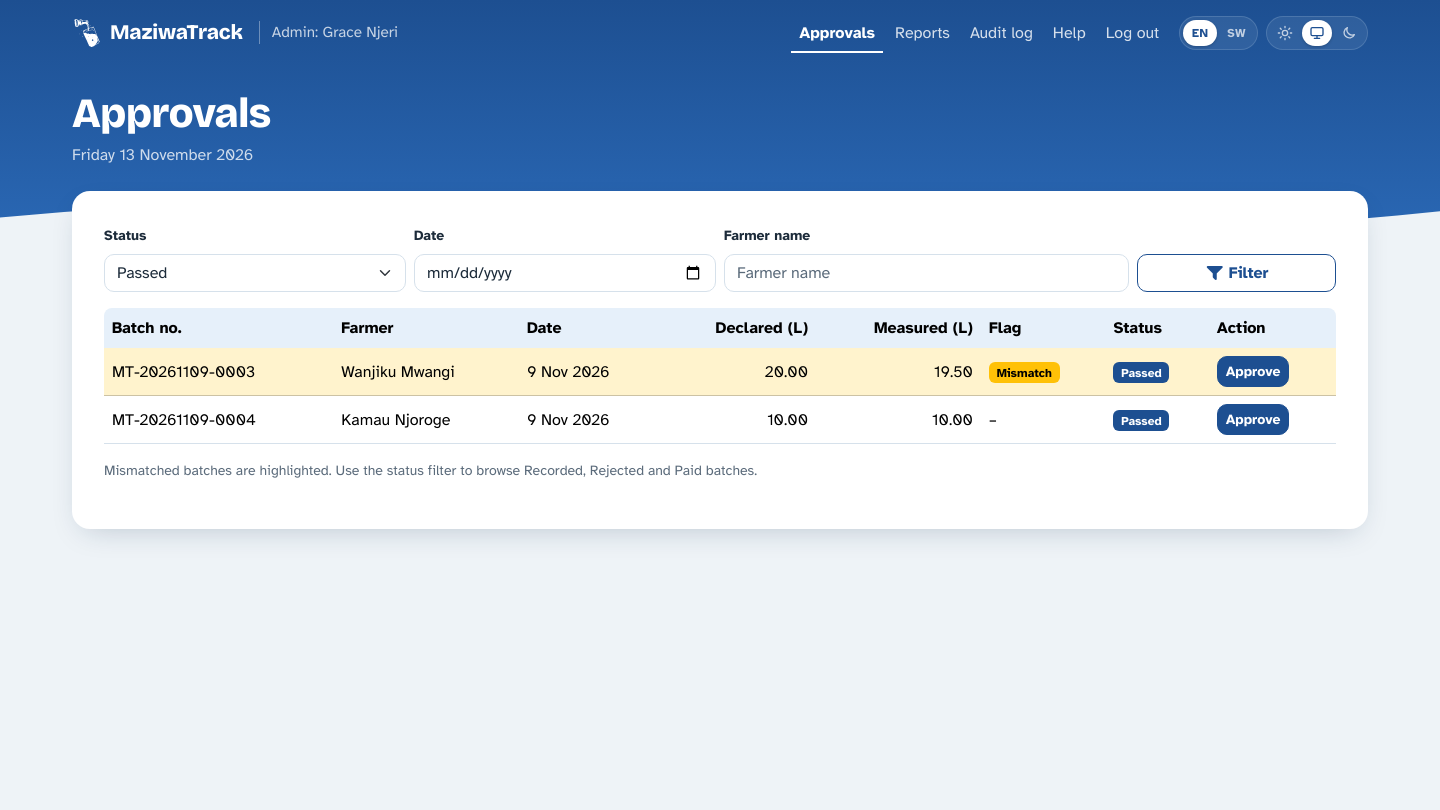
Test: Approvals › P2: the pop-up shows the amount (measured litres × price) before approving
This screenshot has width=1440, height=810.
Click the button "Approve" in the row of "MT-20261109-0003".
click(1253, 372)  # box 1217,356 -> 1289,387
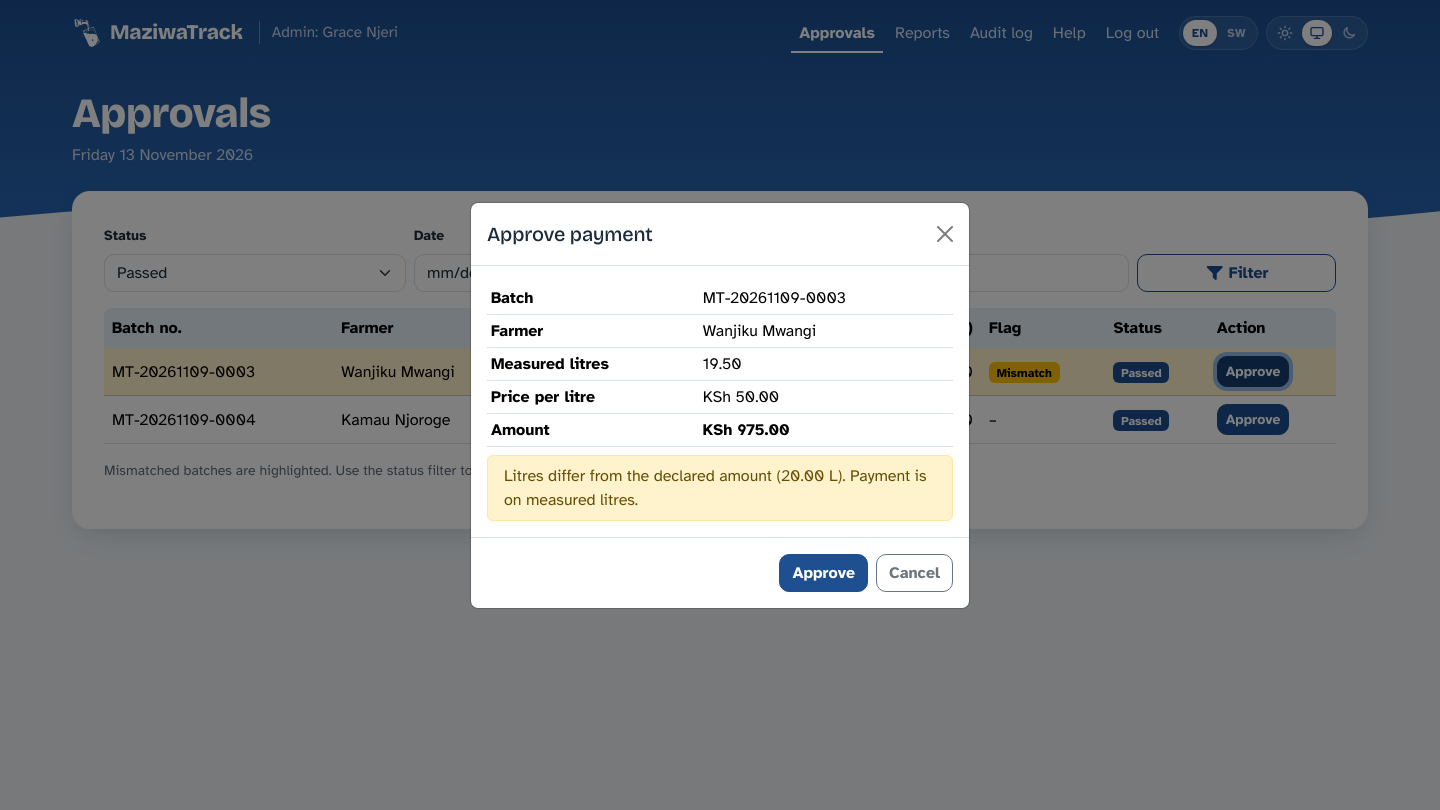
Check: the dialog shows "Approve payment", box 487,222 -> 653,246
Check: the dialog shows "KSh 50.00", box 703,386 -> 779,406
Check: the dialog shows "KSh 975.00", box 703,420 -> 789,440
Click the button "Approve".
click(824, 572)  # box 779,554 -> 868,592
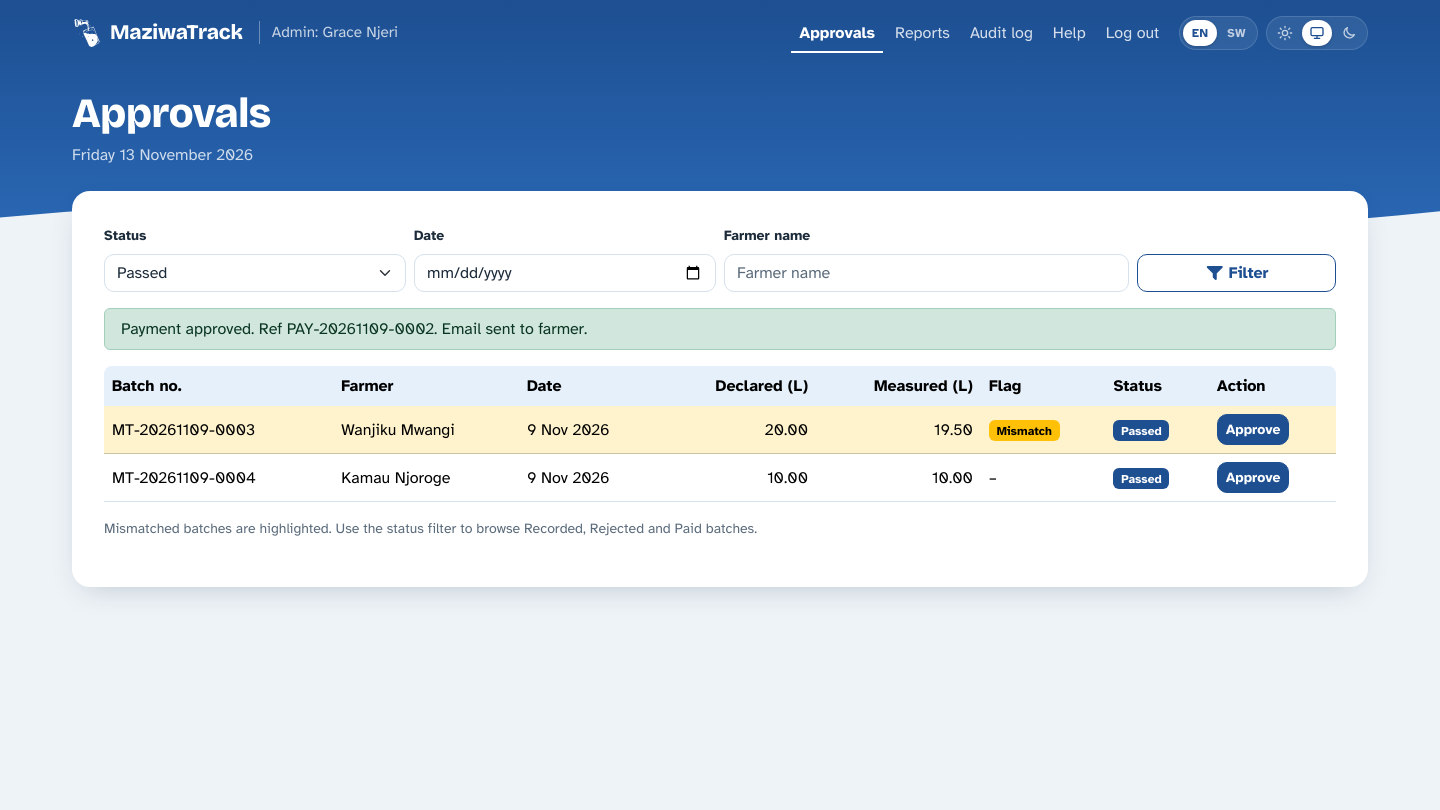
Check: the text "Payment approved. Ref PAY-20261109-0002. Email sent to farmer." is shown, box 104,308 -> 1336,350
Check: the dialog is gone
